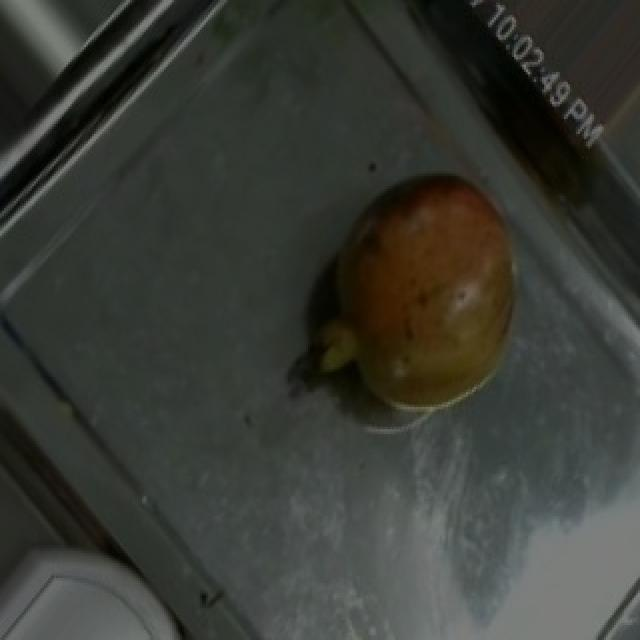fruit: (296, 144, 554, 434)
